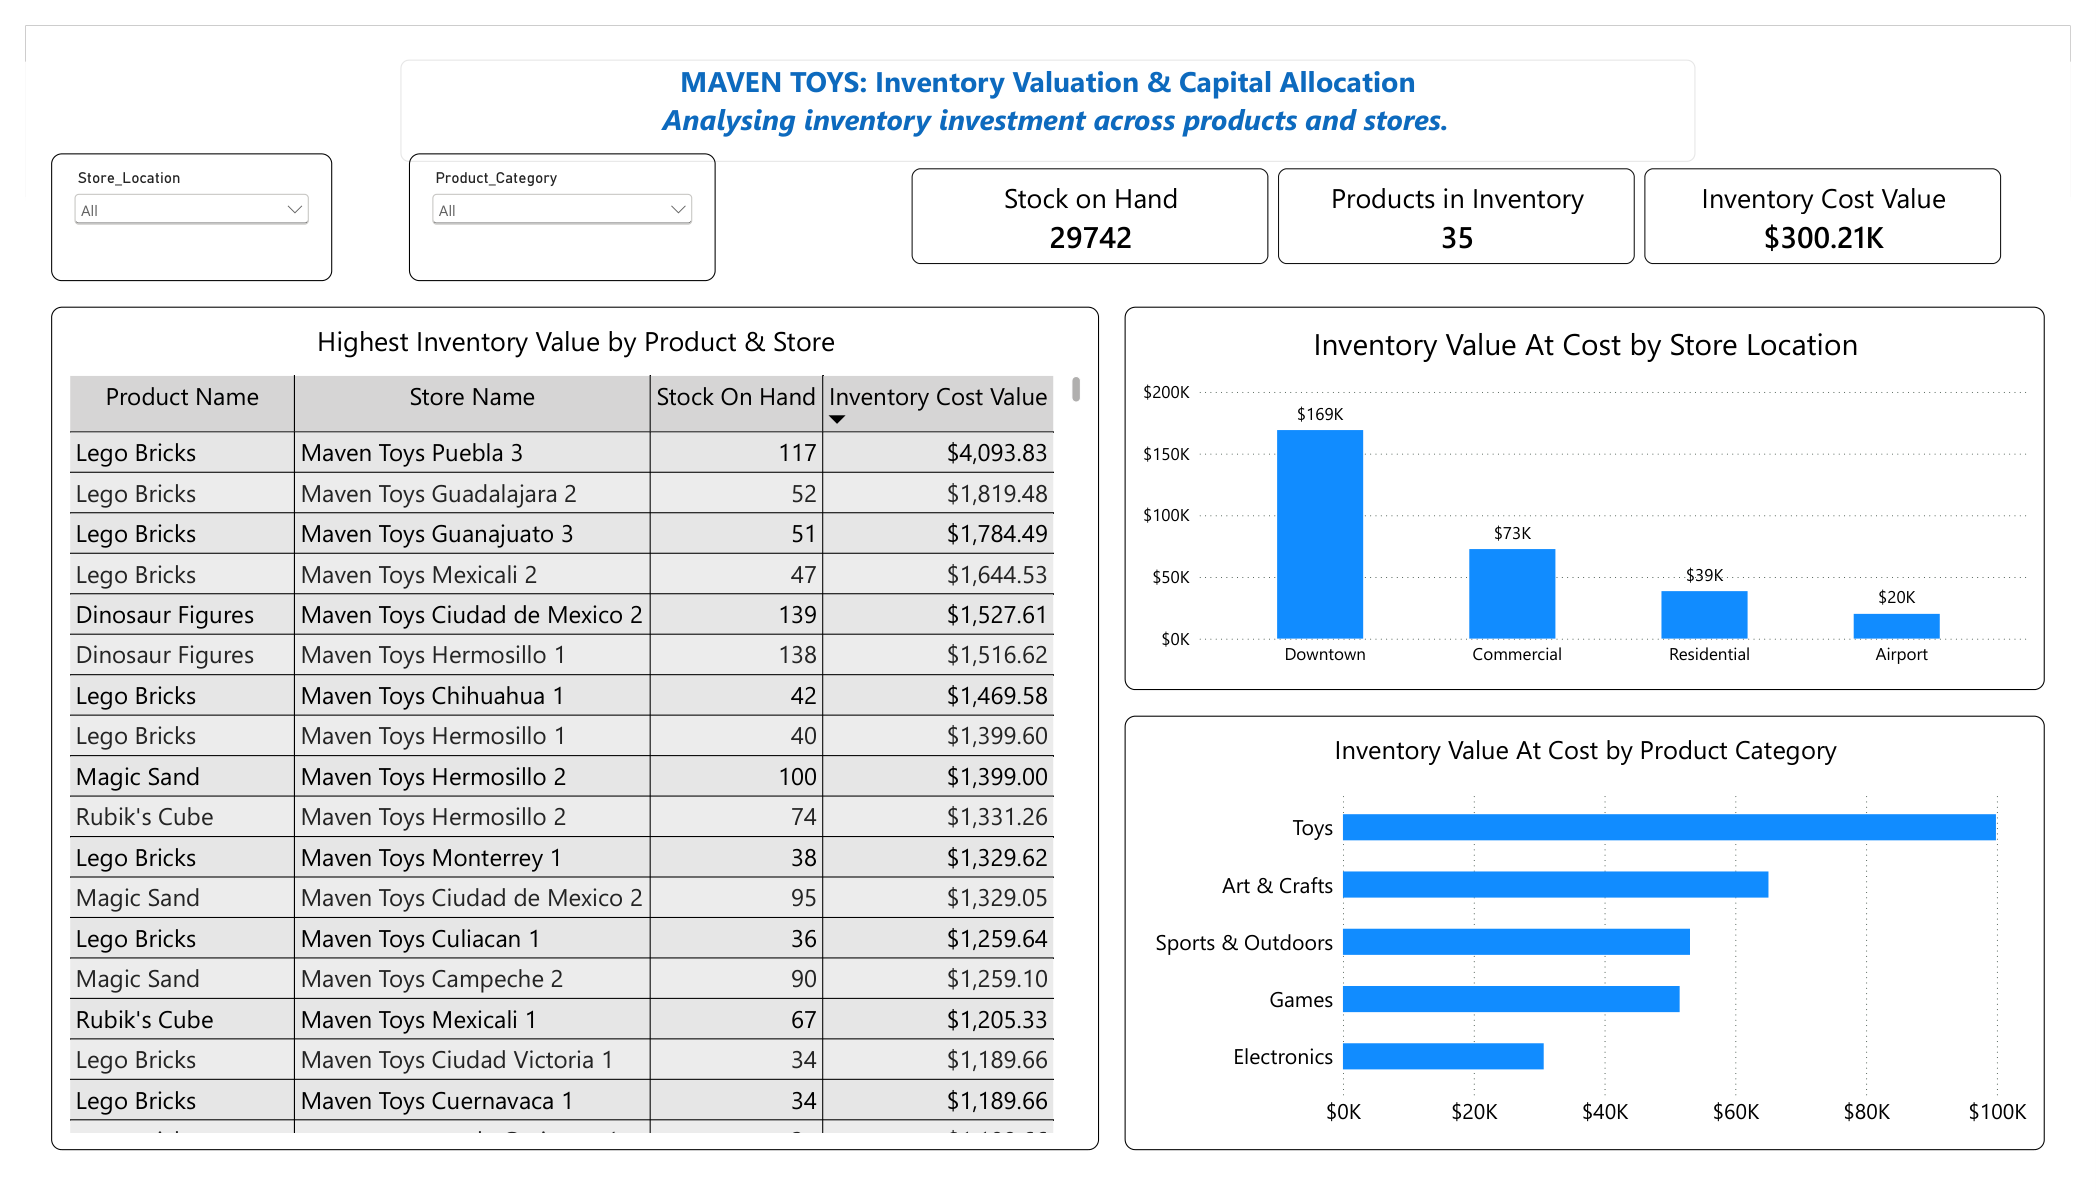

This screenshot's page, from the dashboard's own definition file:
{"tool":"powerbi","page":{"name":"Inventory Valuation Analysis","canvas":[1920,1080],"ordinal":3},"visuals":[{"type":"textbox","box":[352,32,1216,96],"z":0},{"type":"clusteredBarChart","title":"Inventory Value At Cost by Product Category","fields":{"Category":["products.Product_Category"],"Y":["Measure.Inventory_Value_At_Cost"]},"box":[1032,648,864,408],"z":1000},{"type":"cardVisual","fields":{"Data":["Measure.Stock_On_Hand","Measure.Products_in_Inventory","Measure.Inventory_Value_At_Cost"]},"box":[816,120,1056,120],"z":2000},{"type":"slicer","fields":{"Values":["products.Product_Category"]},"box":[360,120,288,120],"z":4000},{"type":"slicer","fields":{"Values":["stores.Store_Location"]},"box":[24,120,264,120],"z":5000},{"type":"columnChart","title":"Inventory Value At Cost by Store Location","fields":{"Category":["stores.Store_Location"],"Y":["Measure.Inventory_Value_At_Cost"]},"box":[1032,264,864,360],"z":5001},{"type":"tableEx","title":"Highest Inventory Value by Product & Store","fields":{"Values":["products.Product_Name","stores.Store_Name","Measure.Stock_On_Hand","Measure.Inventory_Value_At_Cost"]},"box":[24,264,984,792],"z":5002}]}

Visuals, with their boxes in screenshot pixels (x1, y1, x2, y2), scaled from the page's 1920x1080 canvas onto the 2096x1202 screenshot:
textbox: box=[384, 36, 1712, 142]
"Inventory Value At Cost by Product Category" clusteredBarChart: box=[1127, 721, 2070, 1175]
cardVisual - Measure.Stock_On_Hand x Measure.Products_in_Inventory: box=[891, 134, 2044, 267]
slicer - products.Product_Category: box=[393, 134, 707, 267]
slicer - stores.Store_Location: box=[26, 134, 314, 267]
"Inventory Value At Cost by Store Location" columnChart: box=[1127, 294, 2070, 694]
"Highest Inventory Value by Product & Store" tableEx: box=[26, 294, 1100, 1175]
